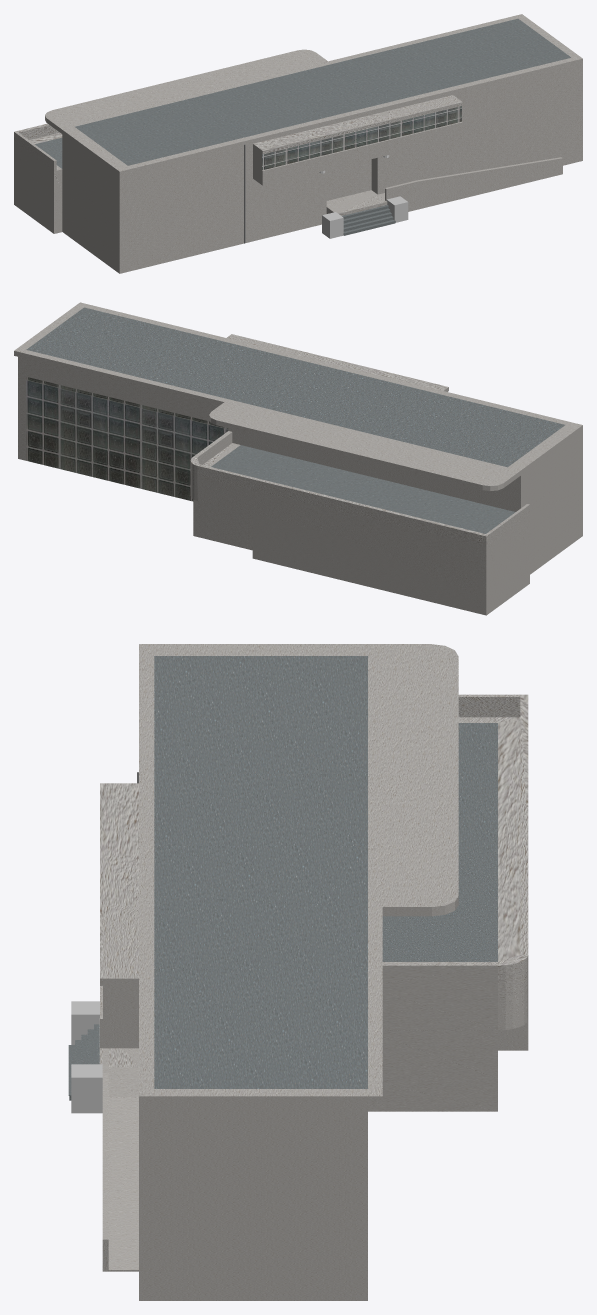
The model's file is shokudo.fbx.
3 renders of one model, top to bottom at view 1: azimuth 30°, elevation 25°; view 2: azimuth 150°, elevation 25°; view 3: azimuth 270°, elevation 25°, orthographic. The views are drawn at different scales.
Parts seen in each view (by area): view 1: Cube, Cube.003, Stairs, Cube.002, Cube.001; view 2: Cube; view 3: Cube, Cube.003, Cube.001, Stairs, Cube.002.
Boxes of the visible parts, x1,y1,x2,y2 form: Cube: [14, 14, 582, 273]; Cube.003: [377, 157, 562, 211]; Stairs: [342, 205, 395, 235]; Cube.002: [322, 212, 343, 238]; Cube.001: [386, 196, 408, 222]; Cube: [14, 302, 582, 615]; Cube: [99, 644, 528, 1300]; Cube.003: [102, 1048, 138, 1271]; Cube.001: [71, 1064, 102, 1113]; Stairs: [68, 1024, 99, 1100]; Cube.002: [71, 1001, 99, 1044].
Bounding box in the file's own units: 3631 × 752 × 1532.
